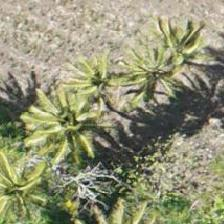coconut_tree: (131, 8, 221, 98), (107, 32, 197, 122), (54, 39, 144, 129), (24, 85, 114, 175), (0, 148, 61, 223)
